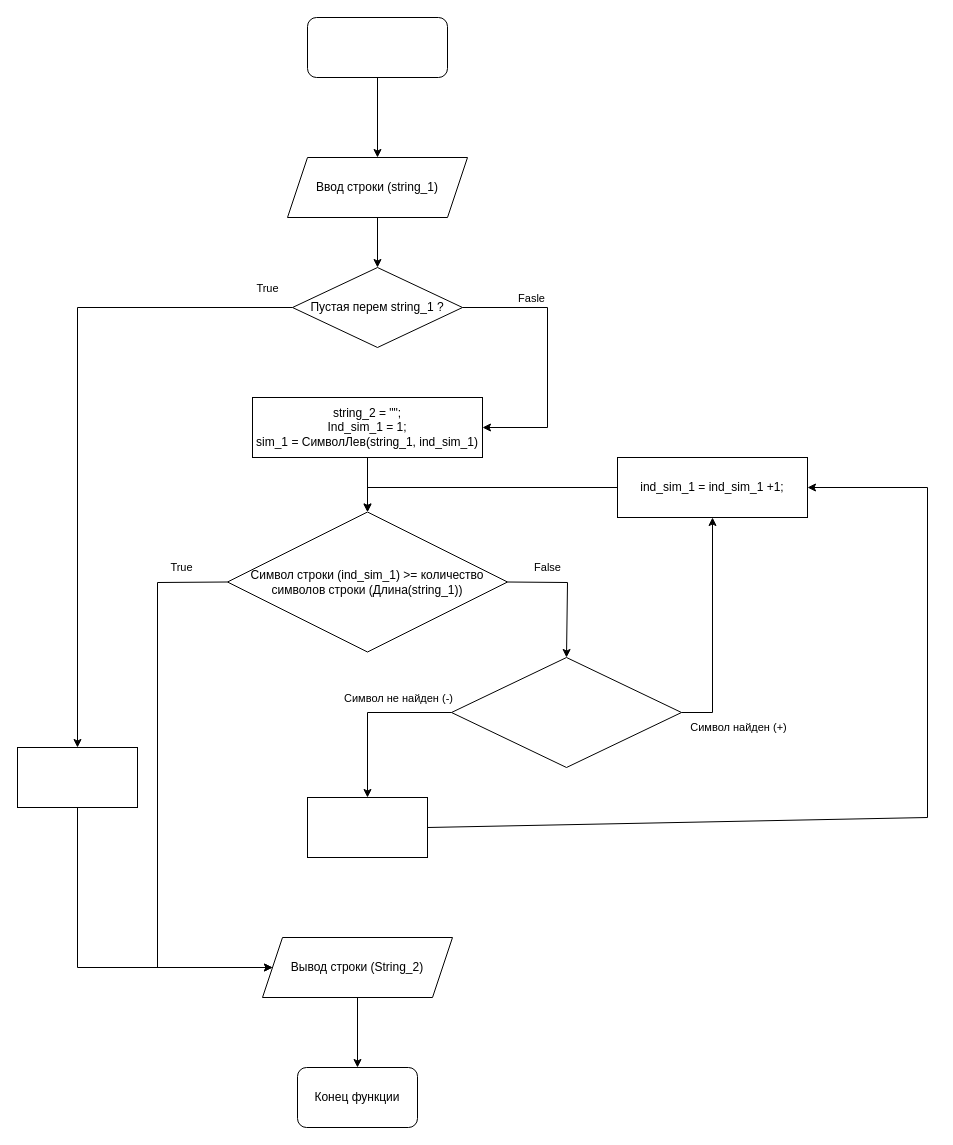
The diagram is 953 pixels wide and 1145 high, and some of its shapes have lost their labels. Here are the shapes that lost their labels. From the top down, the centre of each, then its label:
point 377,47: Начало функции
point 566,712: Найти(ВерхнийРегистр(sim_1), ВерхнийРегистр(string_2))
point 77,777: string_2 = "Пустая строка";
point 367,827: string_2 = string_2+sim_1
